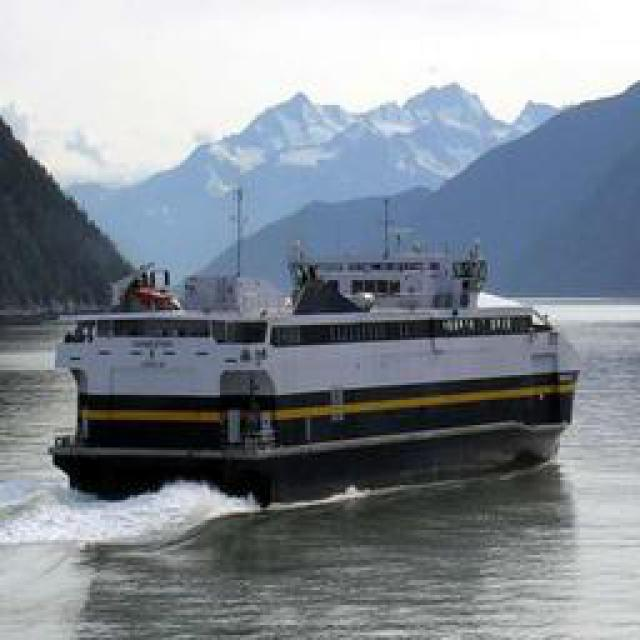Ship: (40, 234, 580, 504)
